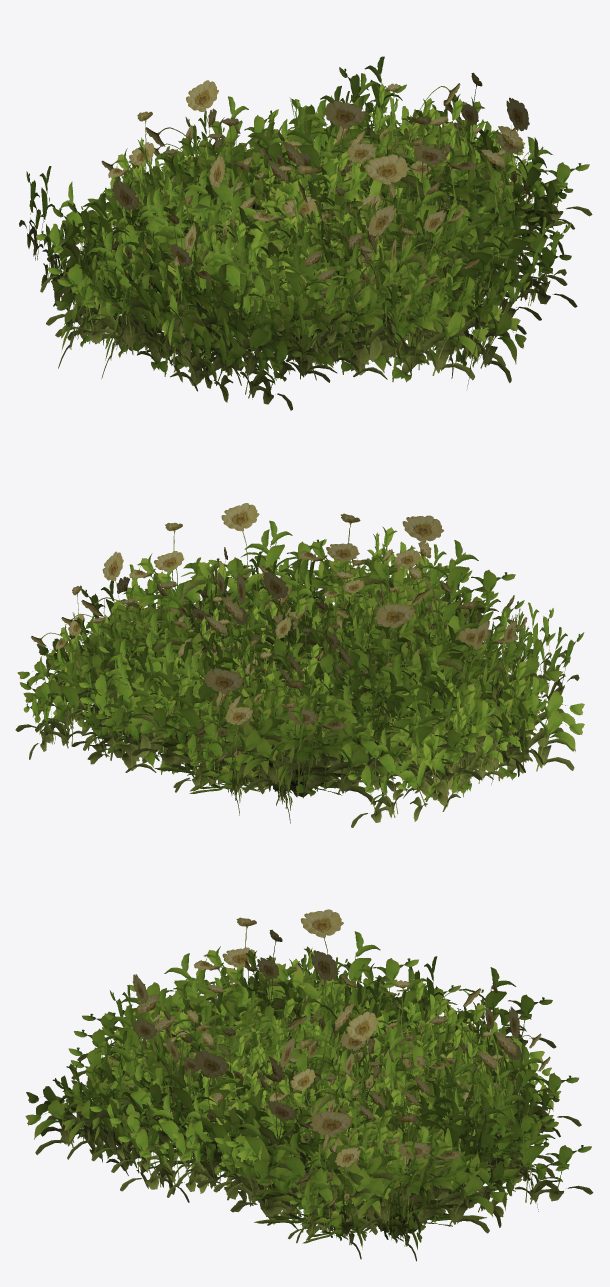
Rendered from 草坪小花.glb.
3 renders of one model, top to bottom at view 1: azimuth 30°, elevation 25°; view 2: azimuth 150°, elevation 25°; view 3: azimuth 270°, elevation 25°, orthographic. The views are drawn at different scales.
Parts seen in each view (by area): view 1: 平面.020; view 2: 平面.020; view 3: 平面.020.
Part boxes in pixels (x1,y1,x2,y2): 平面.020: [19, 56, 592, 410]; 平面.020: [15, 503, 584, 827]; 平面.020: [25, 909, 593, 1261].
Size of the model in its own units: 2.78 by 0.9418 by 2.67.
3 materials, 3 textured.
